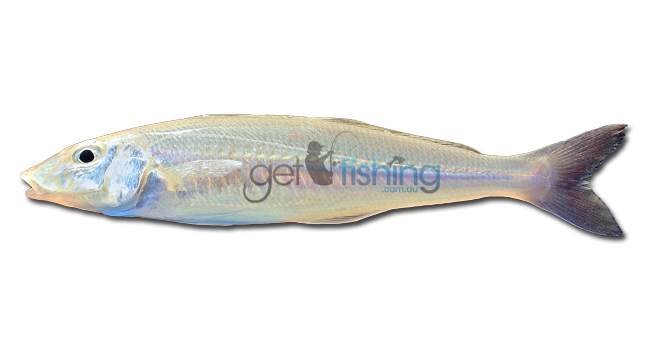kiss: (22, 101, 633, 263)
